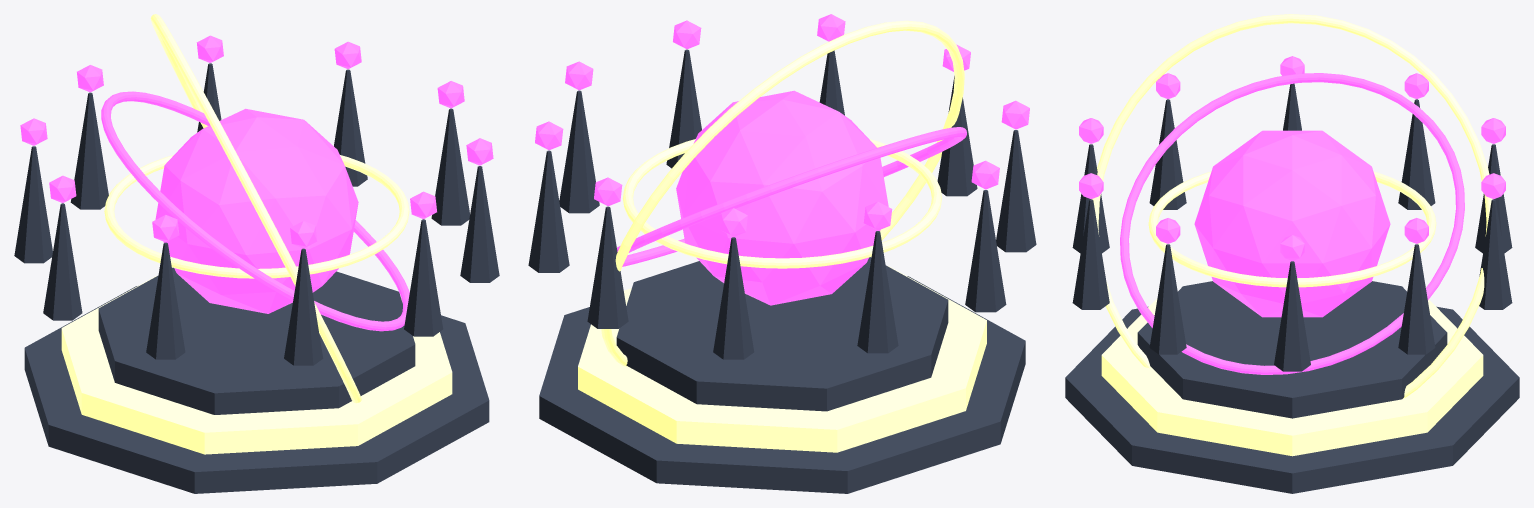
File: gpu-blender-v6.glb
The picture shows the model from 3 angles, left to right: view 1: azimuth 30°, elevation 25°; view 2: azimuth 150°, elevation 25°; view 3: azimuth 270°, elevation 25°; orthographic projection. The views are drawn at different scales.
Visible parts, largest first — view 1: Cylinder.002, SovereignCore_jwt-inspector-guard, Cylinder, Cylinder.001, Torus.001, Torus, Torus.002, Cone.004, Cone.005, Cone.008, Cone.006, Cone.007 (+15 smaller); view 2: Cylinder.002, SovereignCore_jwt-inspector-guard, Cylinder, Cylinder.001, Torus.002, Torus, Torus.001, Cone.004, Cone.005, Cone.006, Cone.003, Cone.001 (+14 smaller); view 3: SovereignCore_jwt-inspector-guard, Cylinder.002, Cylinder, Cylinder.001, Torus.001, Torus.002, Torus, Cone.001, Cone.009, Cone, Cone.008, Cone.002 (+14 smaller).
Boxes of the visible parts, left/top/right/bottom form: Cylinder.002: left=98, top=267, right=415, bottom=414; SovereignCore_jwt-inspector-guard: left=155, top=108, right=358, bottom=313; Cylinder: left=24, top=286, right=489, bottom=493; Cylinder.001: left=61, top=276, right=452, bottom=454; Torus.001: left=101, top=91, right=409, bottom=331; Torus: left=104, top=155, right=409, bottom=278; Torus.002: left=150, top=14, right=361, bottom=403; Cone.004: left=14, top=146, right=52, bottom=263; Cone.005: left=43, top=203, right=82, bottom=320; Cone.008: left=404, top=219, right=443, bottom=336; Cone.006: left=146, top=242, right=185, bottom=359; Cone.007: left=284, top=248, right=323, bottom=365; Cylinder.002: left=616, top=257, right=948, bottom=411; SovereignCore_jwt-inspector-guard: left=676, top=90, right=888, bottom=305; Cylinder: left=539, top=276, right=1025, bottom=493; Cylinder.001: left=578, top=266, right=986, bottom=452; Torus.002: left=601, top=20, right=964, bottom=366; Torus: left=623, top=139, right=941, bottom=268; Torus.001: left=617, top=127, right=966, bottom=266; Cone.004: left=857, top=231, right=898, bottom=353; Cone.005: left=965, top=190, right=1006, bottom=312; Cone.006: left=996, top=130, right=1036, bottom=252; Cone.003: left=713, top=237, right=754, bottom=359; Cone.001: left=528, top=150, right=569, bottom=272; SovereignCore_jwt-inspector-guard: left=1194, top=130, right=1390, bottom=317; Cylinder.002: left=1137, top=281, right=1447, bottom=418; Cylinder: left=1065, top=306, right=1519, bottom=493; Cylinder.001: left=1101, top=298, right=1483, bottom=456; Torus.001: left=1120, top=73, right=1464, bottom=374; Torus.002: left=1092, top=14, right=1492, bottom=398; Torus: left=1148, top=171, right=1436, bottom=287; Cone.001: left=1398, top=244, right=1435, bottom=354; Cone.009: left=1149, top=244, right=1186, bottom=354; Cone: left=1274, top=261, right=1310, bottom=371; Cone.008: left=1072, top=199, right=1109, bottom=309; Cone.002: left=1479, top=199, right=1512, bottom=309.
Size of the model in its own units: 4.41 by 3.72 by 4.4.
